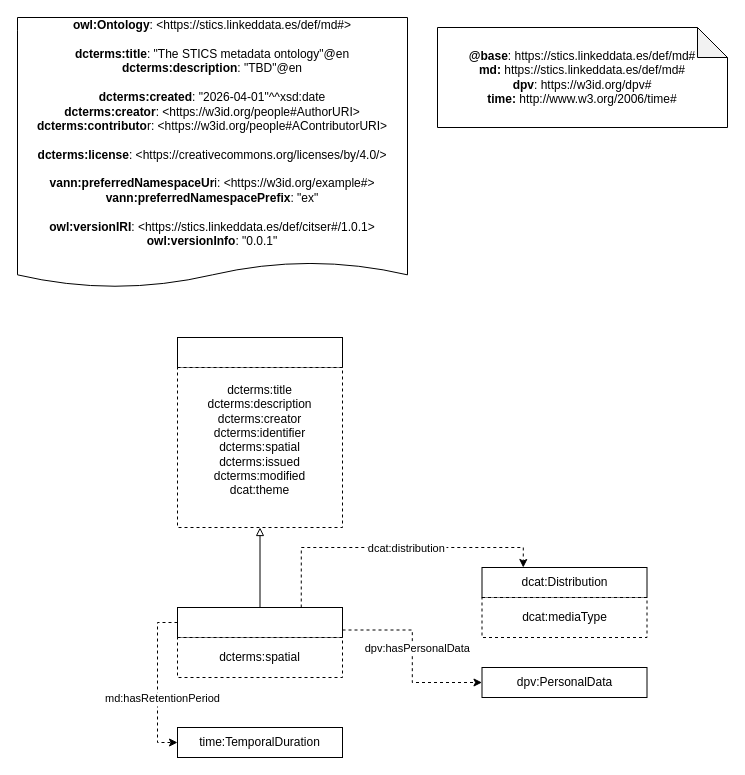
The diagram is 745 pixels wide and 775 high, and some of its shapes have lost their labels. The box of each missing label's shape, as (x1, y1, x2, y2) in pixels:
dcat:Dataset: (176, 606, 342, 638)
dcat:Resource: (176, 336, 342, 368)
